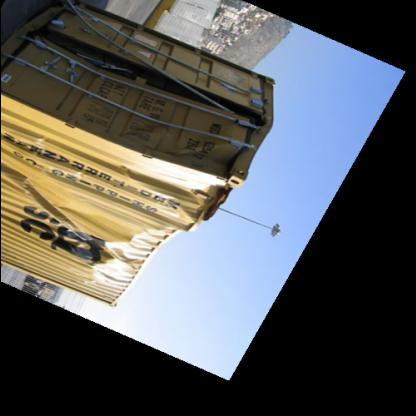Damage: (51, 36, 248, 130), (17, 174, 183, 278)
